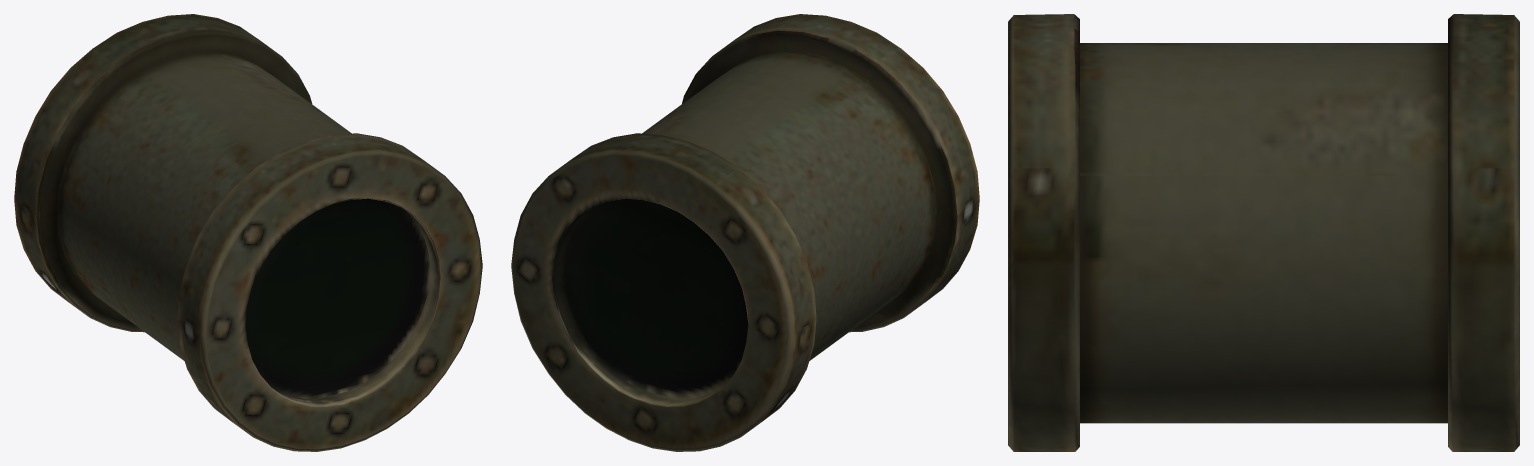
Rendered from pipe_round_flange.fbx.
3 views of the same model, side by side, from view 1: azimuth 30°, elevation 25°; view 2: azimuth 150°, elevation 25°; view 3: azimuth 270°, elevation 25° (orthographic). The views are drawn at different scales.
Visible parts, largest first — view 1: pipe_round_flange; view 2: pipe_round_flange; view 3: pipe_round_flange.
Part boxes in pixels (x1=…): pipe_round_flange: x1=14, y1=14, x2=482, y2=451; pipe_round_flange: x1=511, y1=14, x2=979, y2=451; pipe_round_flange: x1=1008, y1=14, x2=1519, y2=451.
Size of the model in its own units: 81.28 by 80.64 by 94.54.
